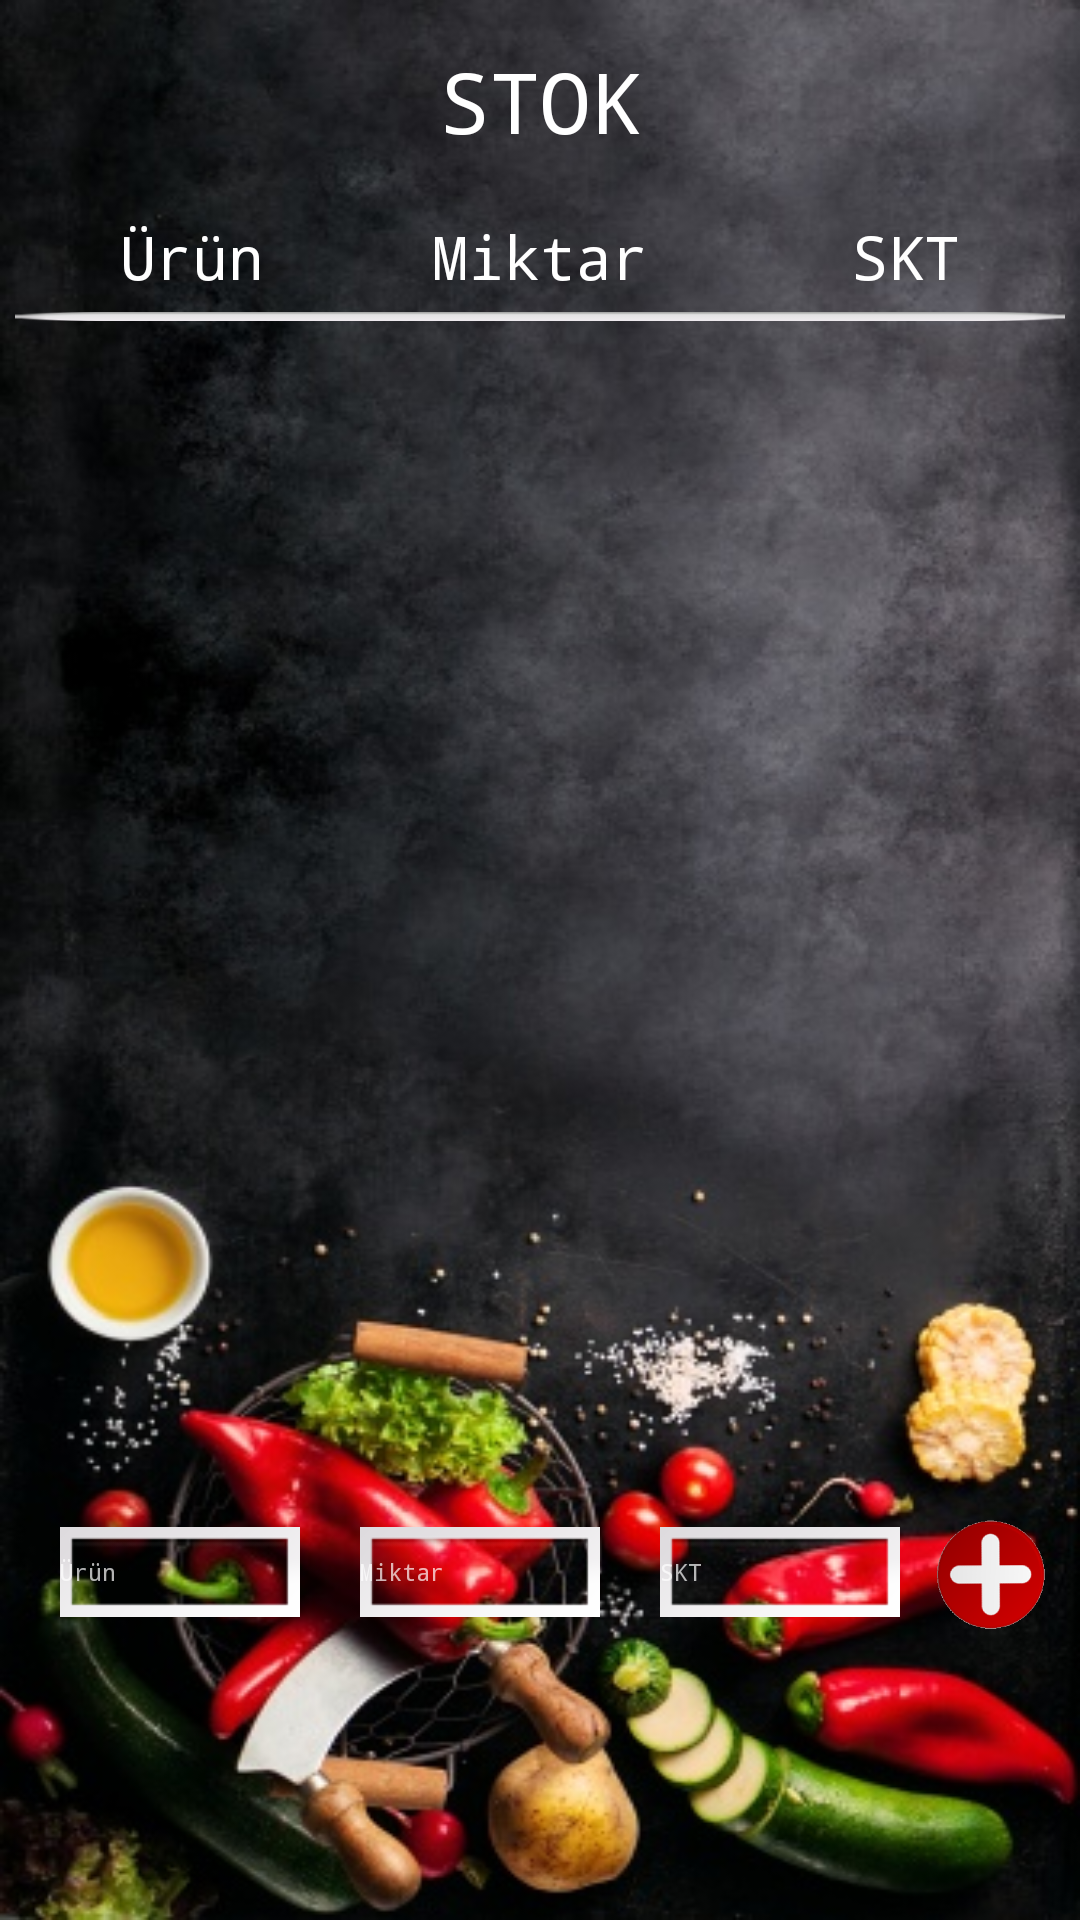

Screen size 1080*1920. Icon name, then its box in pixels as (left=x1, top=y1, right=x2, bottom=y2):
add: (left=930, top=1520, right=1045, bottom=1629)
